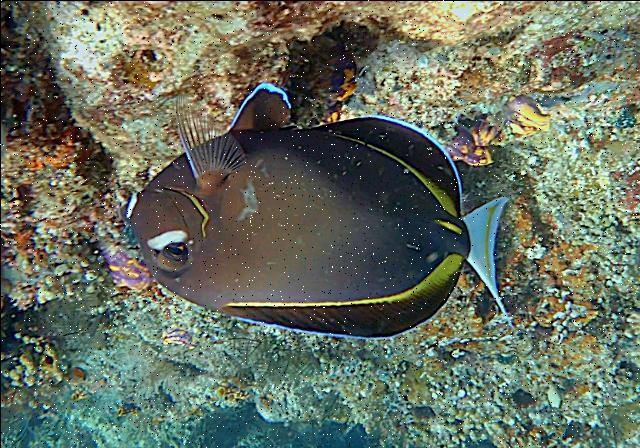Mulut: (88, 164, 166, 254)
Sirip Anal: (307, 100, 467, 218)
Sirip Dada: (156, 79, 258, 204)
Sirip Ekor: (457, 164, 538, 346)
Sirip Perut: (218, 63, 296, 151)
Sirip Punggung: (208, 246, 472, 342)
